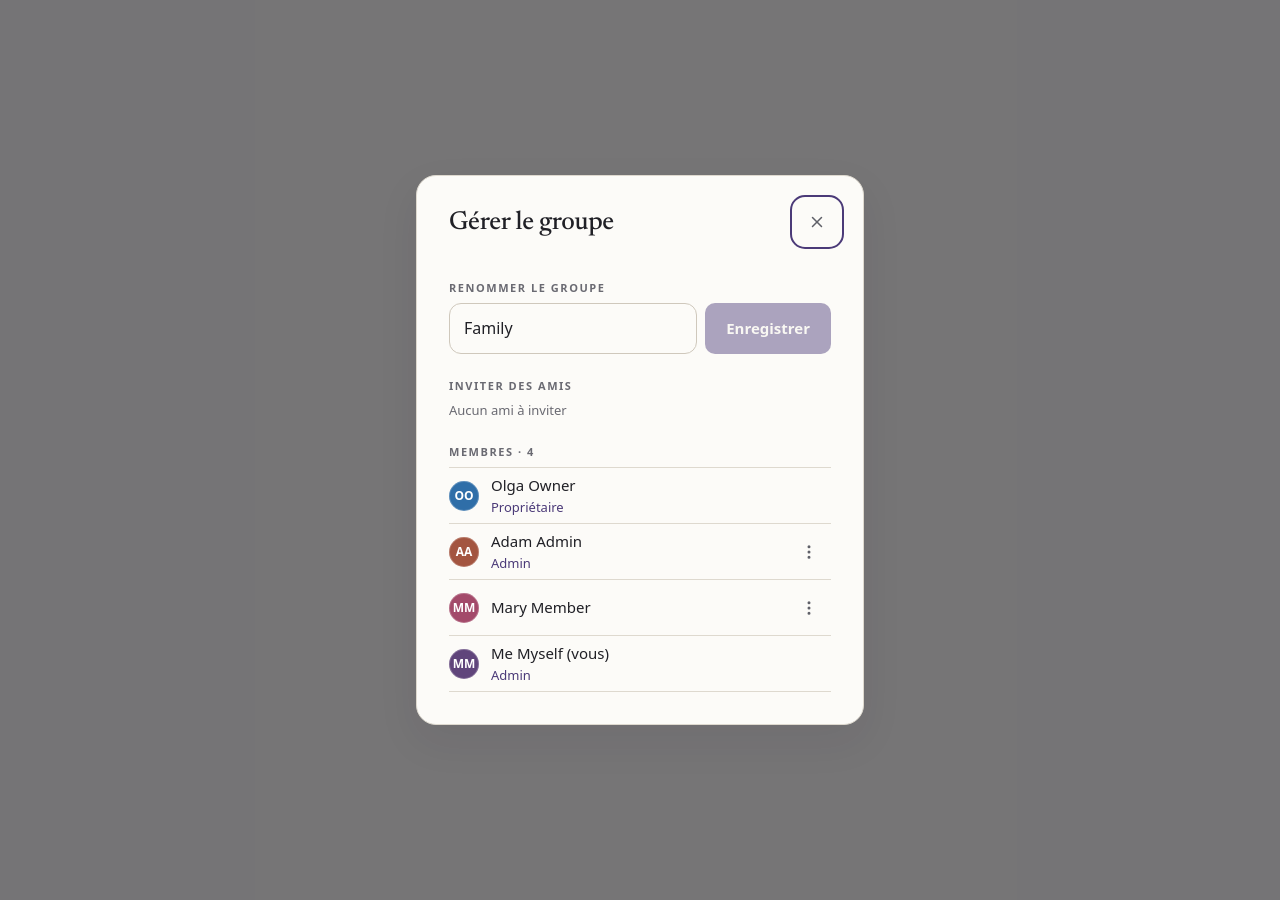
GroupAdminModal — promote flow › promotes a member after confirmation, refreshes the list, and toasts success
Expected: the text "Olga Owner" is shown, x1=491 y1=475 x2=576 y2=495
Click the button named "Actions du membre" in the row of "Mary Member" at (809, 608), box x1=787 y1=586 x2=831 y2=630
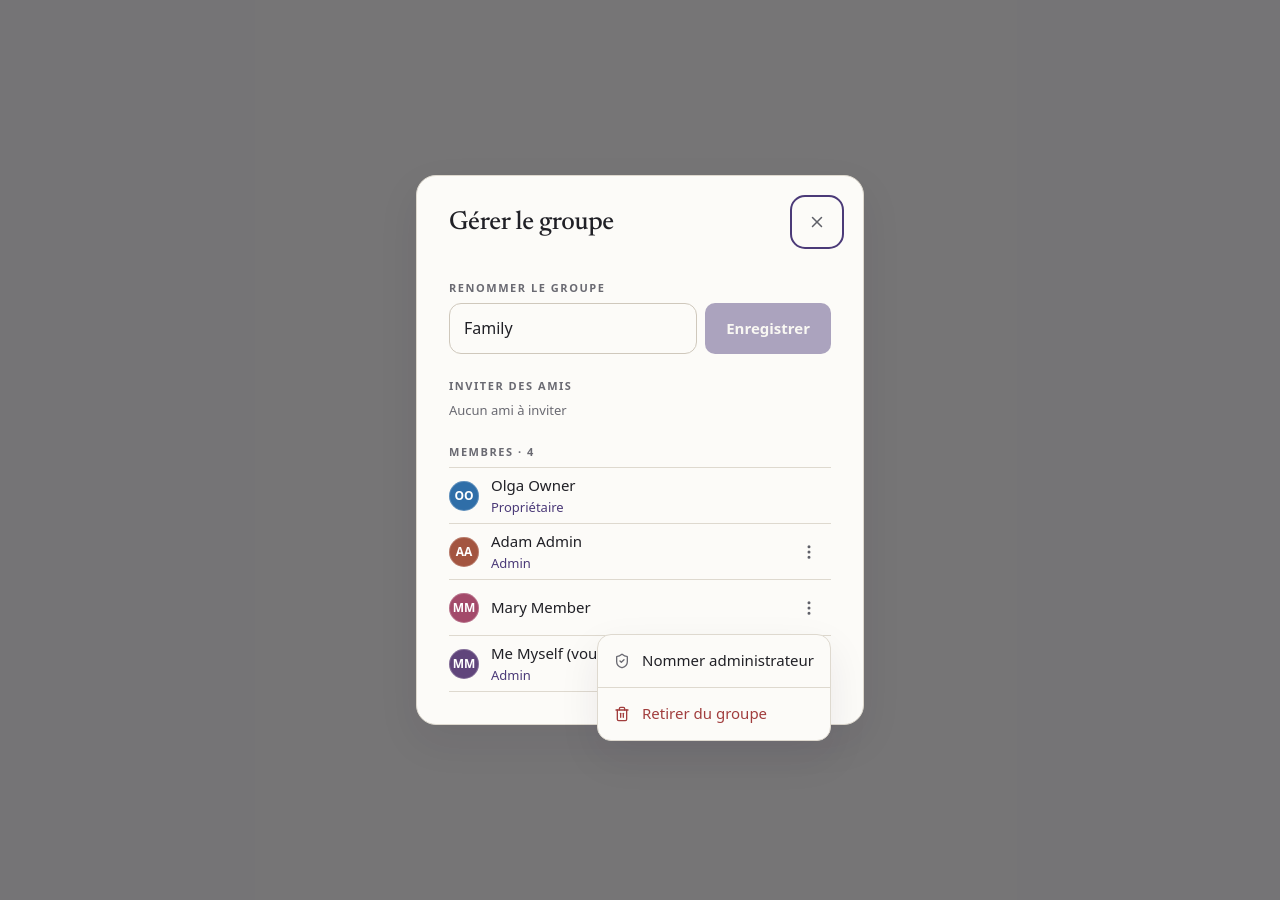
Click the menu item "Nommer administrateur" at (714, 661), box x1=598 y1=639 x2=830 y2=683
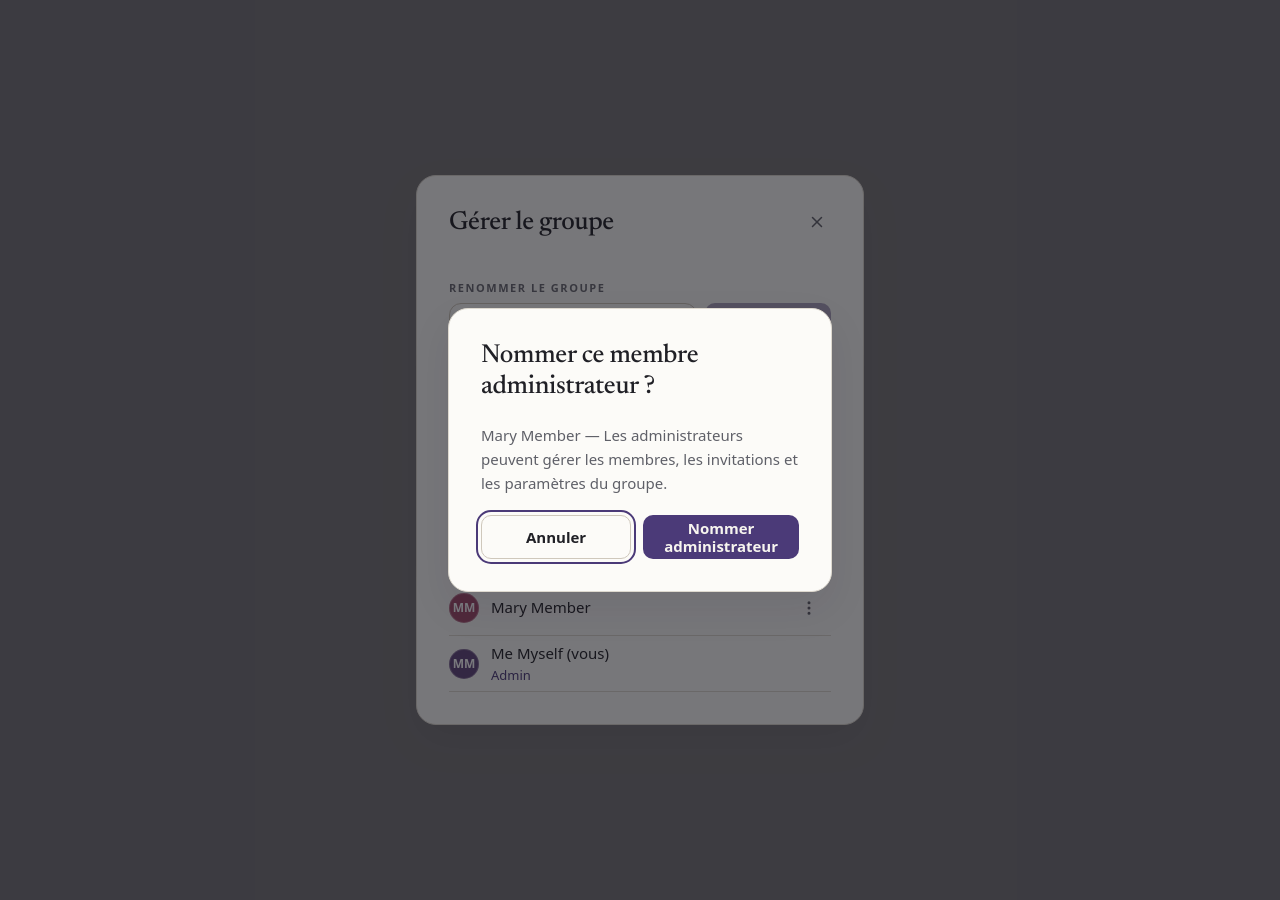
Click the button "Nommer administrateur" at (721, 537), box x1=643 y1=515 x2=799 y2=559
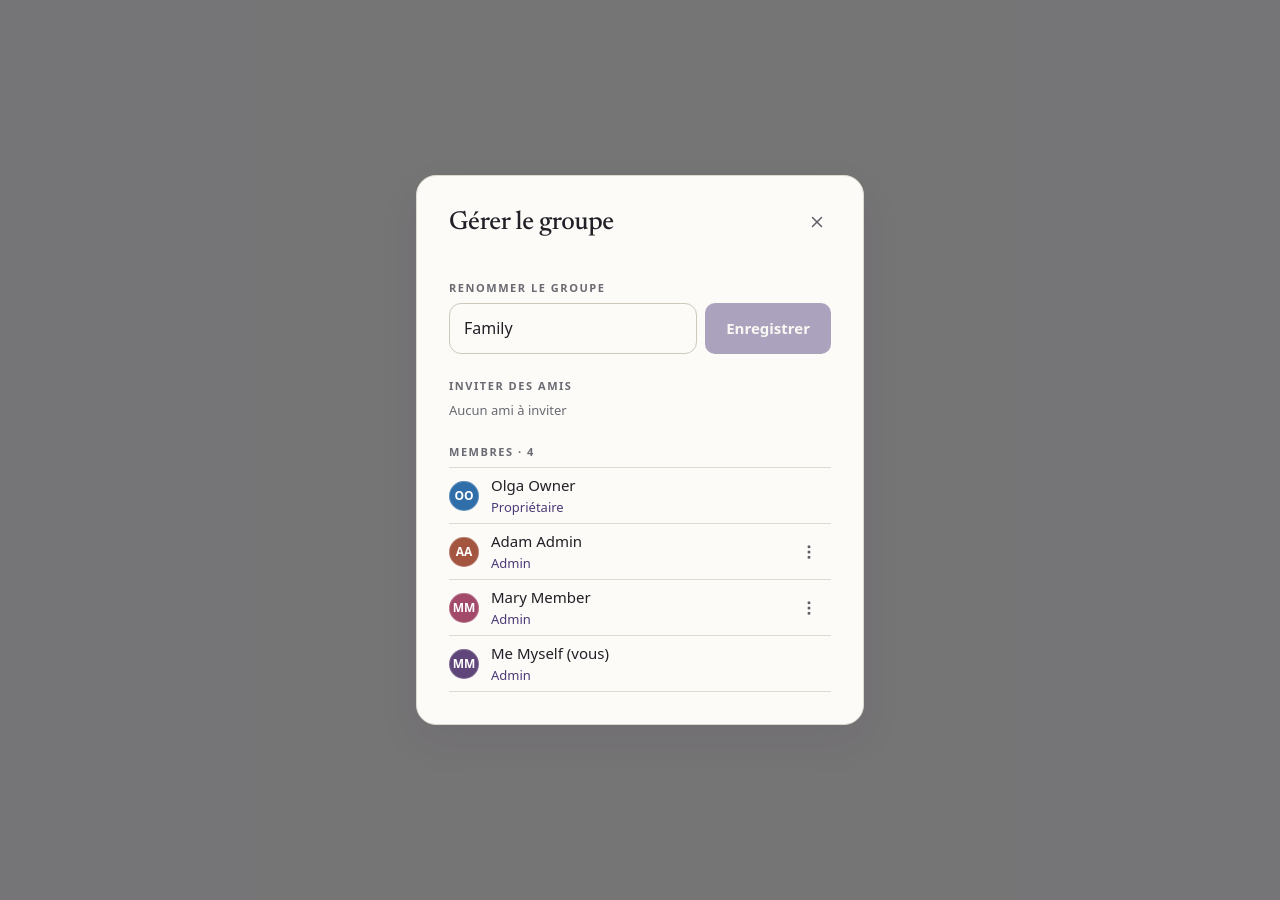
Expected: the text "Admin" below "Mary Member" is shown, x1=491 y1=610 x2=531 y2=628
Expected: the heading "Nommer ce membre administrateur ?" is gone
